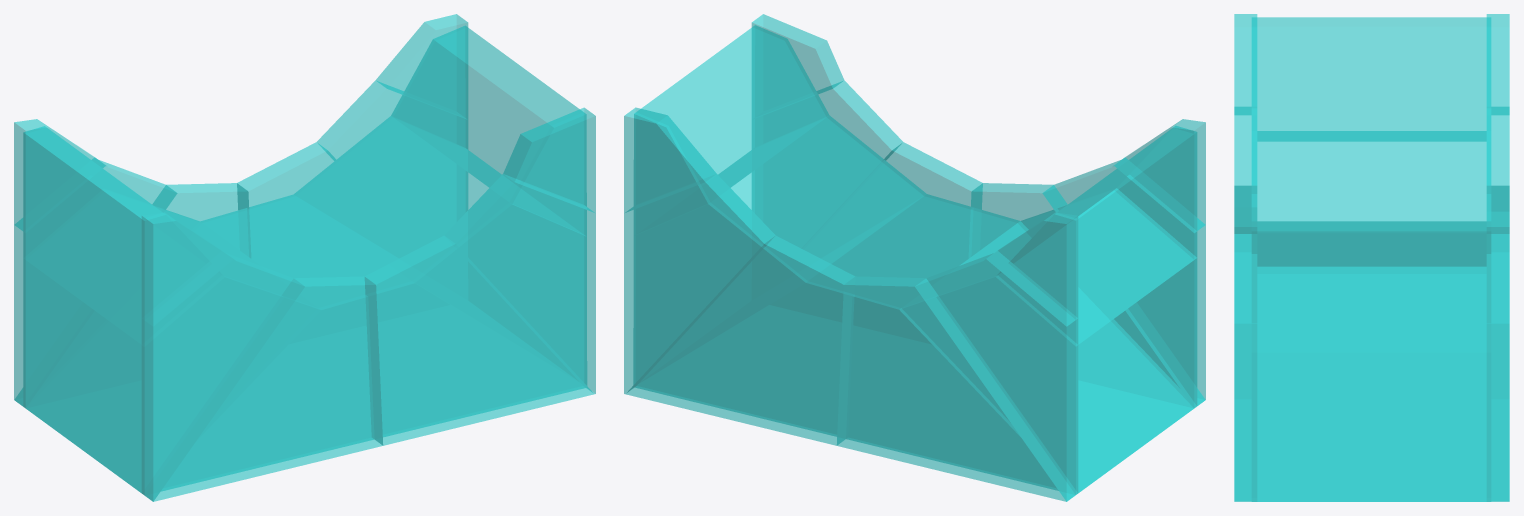
The model's file is SM_Bld_Wall_L_Damaged_Double_02_Collision_01.fbx.
The picture shows the model from 3 angles, left to right: view 1: azimuth 30°, elevation 25°; view 2: azimuth 150°, elevation 25°; view 3: azimuth 270°, elevation 25°; orthographic projection.
Visible parts, largest first — view 1: SM_Bld_Wall_L_Damaged_Double_02_Collision_01; view 2: SM_Bld_Wall_L_Damaged_Double_02_Collision_01; view 3: SM_Bld_Wall_L_Damaged_Double_02_Collision_01.
Boxes of the visible parts, x1=… form: SM_Bld_Wall_L_Damaged_Double_02_Collision_01: x1=14, y1=14, x2=595, y2=501; SM_Bld_Wall_L_Damaged_Double_02_Collision_01: x1=624, y1=14, x2=1205, y2=501; SM_Bld_Wall_L_Damaged_Double_02_Collision_01: x1=1234, y1=14, x2=1509, y2=501.
Size of the model in its own units: 1000 by 601 by 545.
